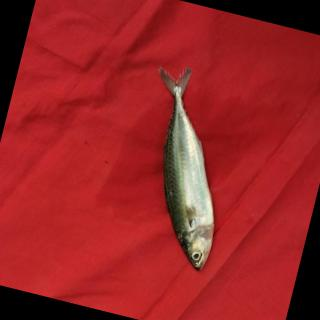Ikan: (113, 57, 258, 276)
